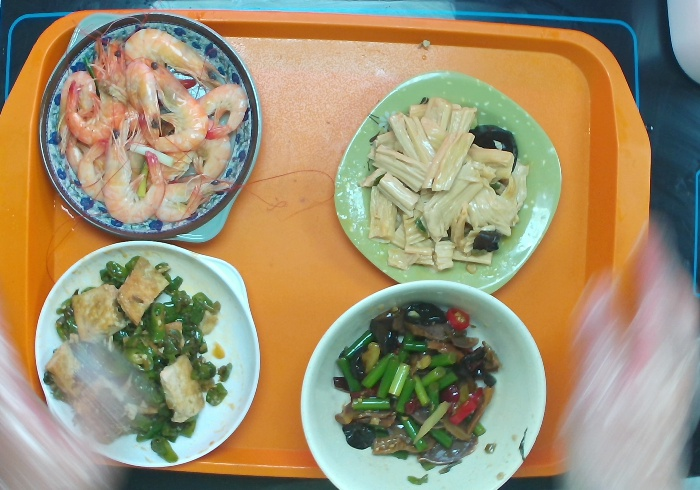NLDX-Bai_Se_Shuang_Er_Die: (28, 244, 260, 480)
NLDX-Bai_Se_Yuan_Wan: (293, 275, 565, 490)
NLDX-Lv_Hua_Fang_Die: (337, 71, 560, 296)
NLDX-Qing_Hua_Shuang_Er_Die: (31, 5, 262, 241)
